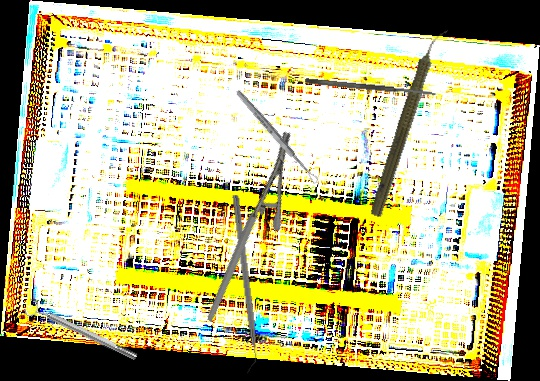Chopper: (223, 193, 261, 375)
Fixation Ring: (22, 296, 141, 367)
Handpiece: (366, 22, 450, 221)
Needle Holder: (155, 128, 341, 323)
Spatula Surgical: (304, 77, 437, 98)
Surgical Spoon: (233, 88, 321, 186)
